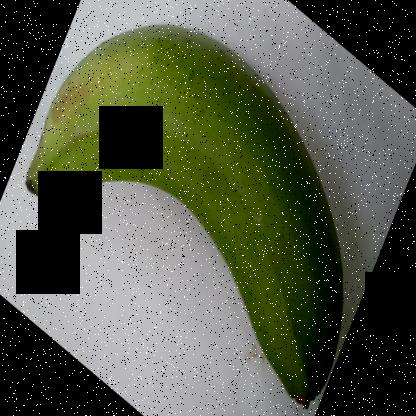freshunripe: (26, 3, 352, 415)
